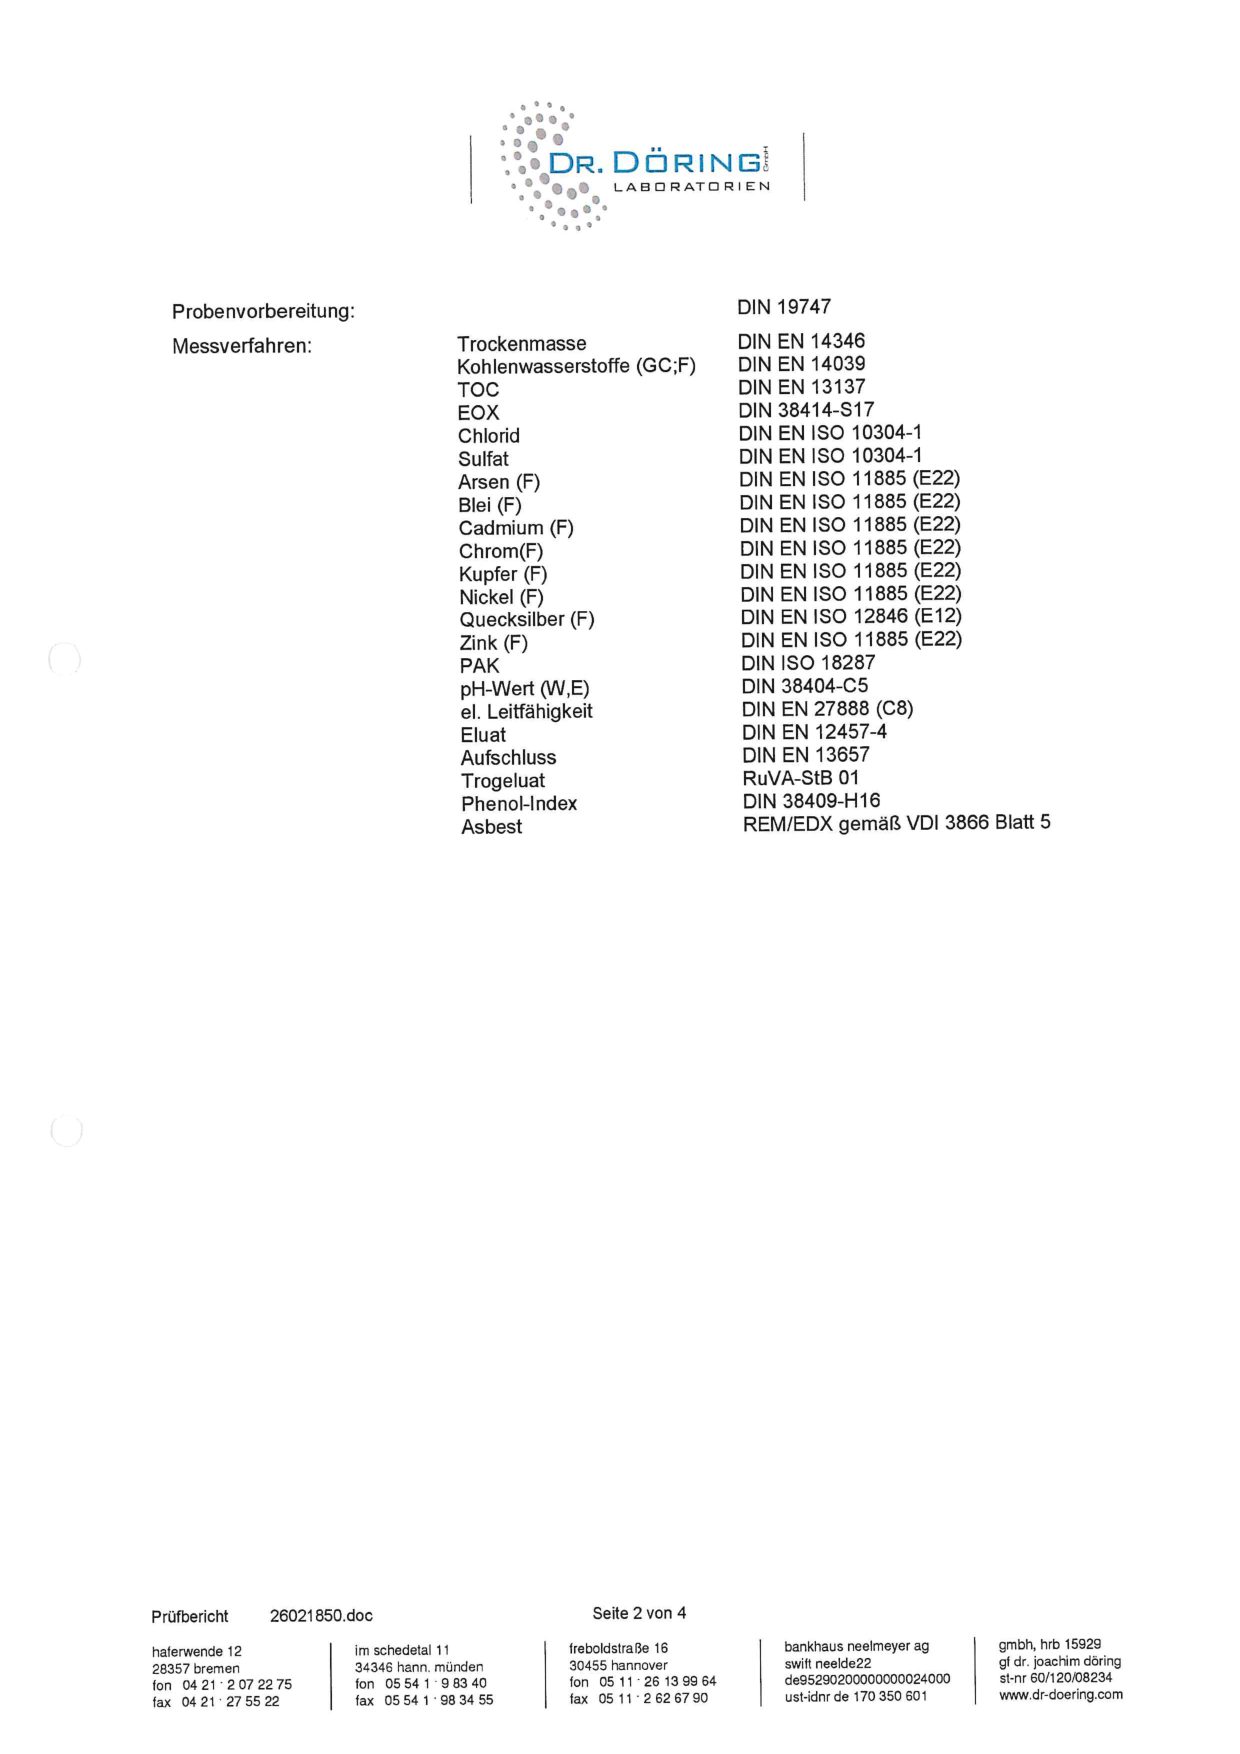table: (442, 293, 1075, 840)
